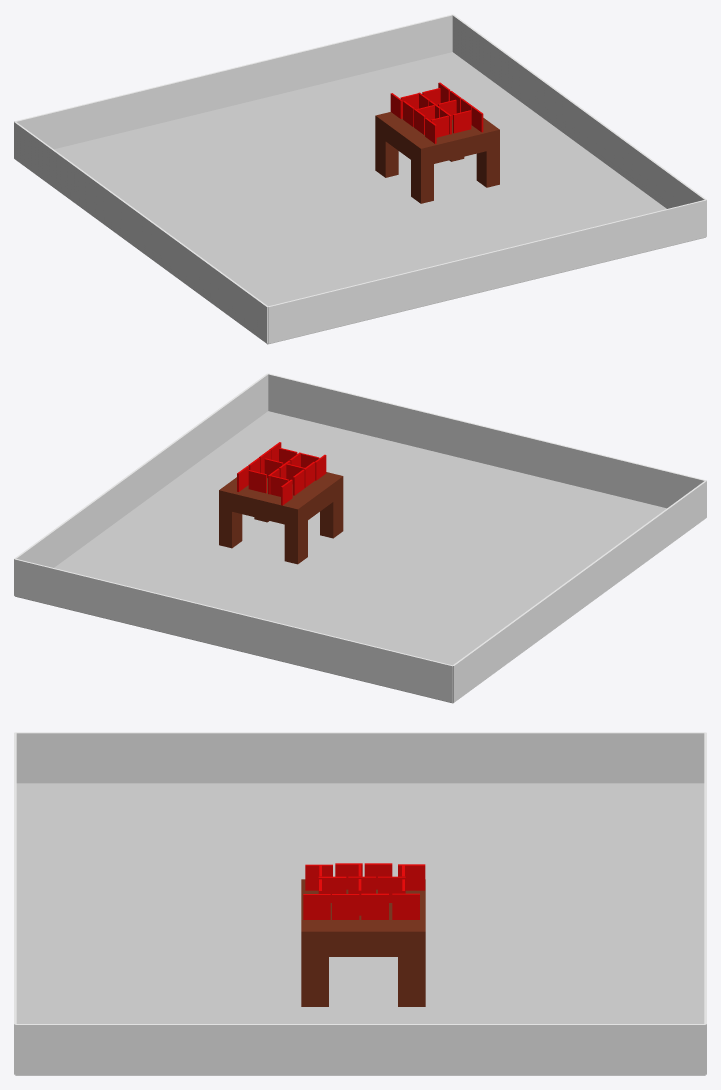
3 views of the same model, one above another, from view 1: azimuth 30°, elevation 25°; view 2: azimuth 150°, elevation 25°; view 3: azimuth 270°, elevation 25° (orthographic). The views are drawn at different scales.
Parts seen in each view (by area): view 1: _dummylink0_ (×5), base (×4); view 2: _dummylink0_ (×5), base (×4); view 3: _dummylink0_ (×5), base (×8).
Part boxes in pixels (x1,y1,x2,y2): _dummylink0_ (×5): (14, 14, 706, 344); base (×4): (375, 112, 499, 203); _dummylink0_ (×5): (14, 373, 706, 703); base (×4): (219, 472, 343, 564); _dummylink0_ (×5): (14, 732, 706, 1075); base (×8): (301, 864, 425, 1006).
Size of the model in its own units: 5.02 by 5.02 by 0.8209.
